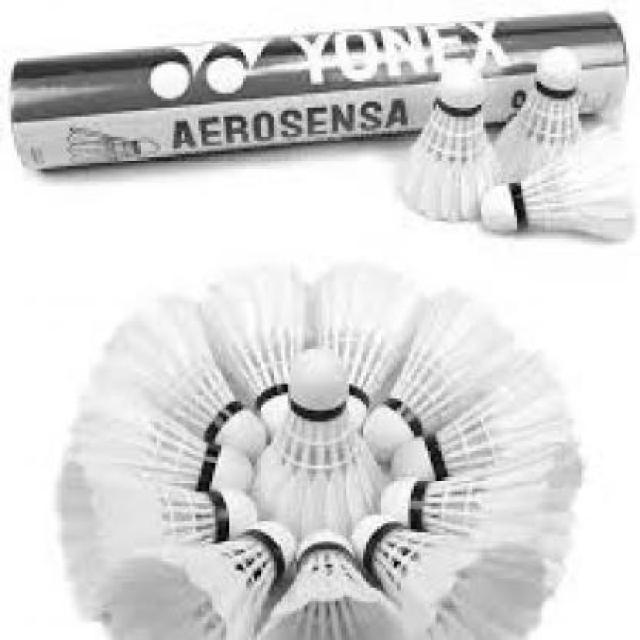Shuttlecock: (252, 347, 388, 536), (480, 123, 640, 243)
